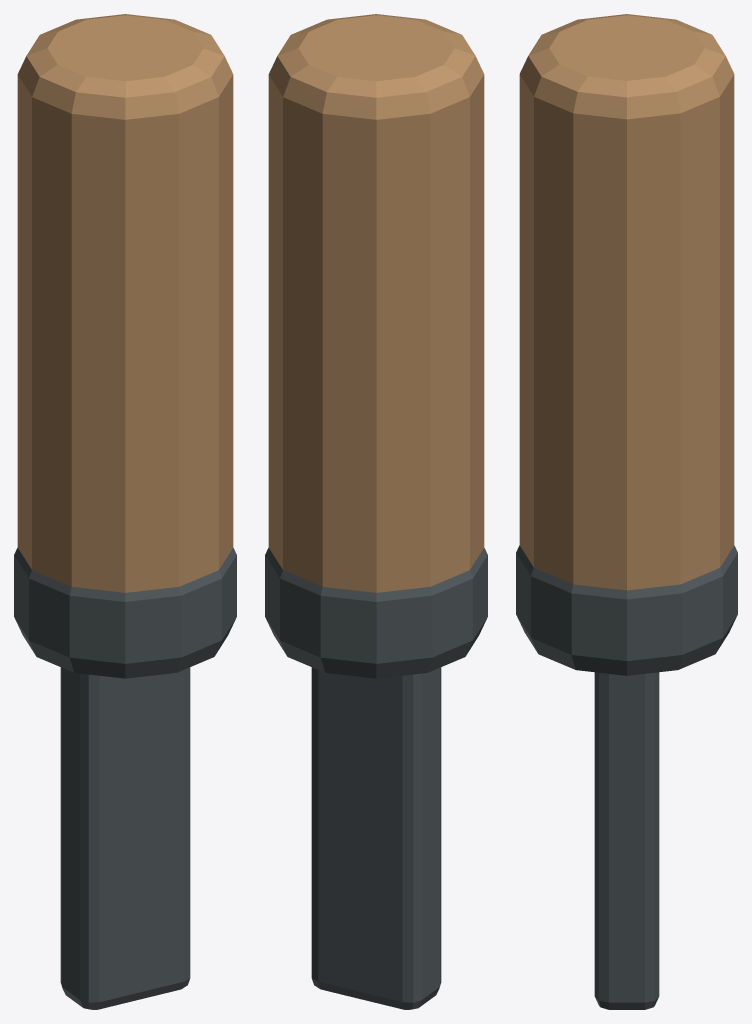
Rendered from tool_mason_chisel.glb.
3 views of the same model, side by side, from view 1: azimuth 30°, elevation 25°; view 2: azimuth 150°, elevation 25°; view 3: azimuth 270°, elevation 25° (orthographic).
Parts seen in each view (by area): view 1: tool_mason_chisel; view 2: tool_mason_chisel; view 3: tool_mason_chisel.
Part boxes in pixels (<box>): tool_mason_chisel: <box>14,14,236,1009</box>; tool_mason_chisel: <box>265,14,487,1009</box>; tool_mason_chisel: <box>516,14,737,1009</box>.
Size of the model in its own units: 0.062 by 0.29 by 0.062.
